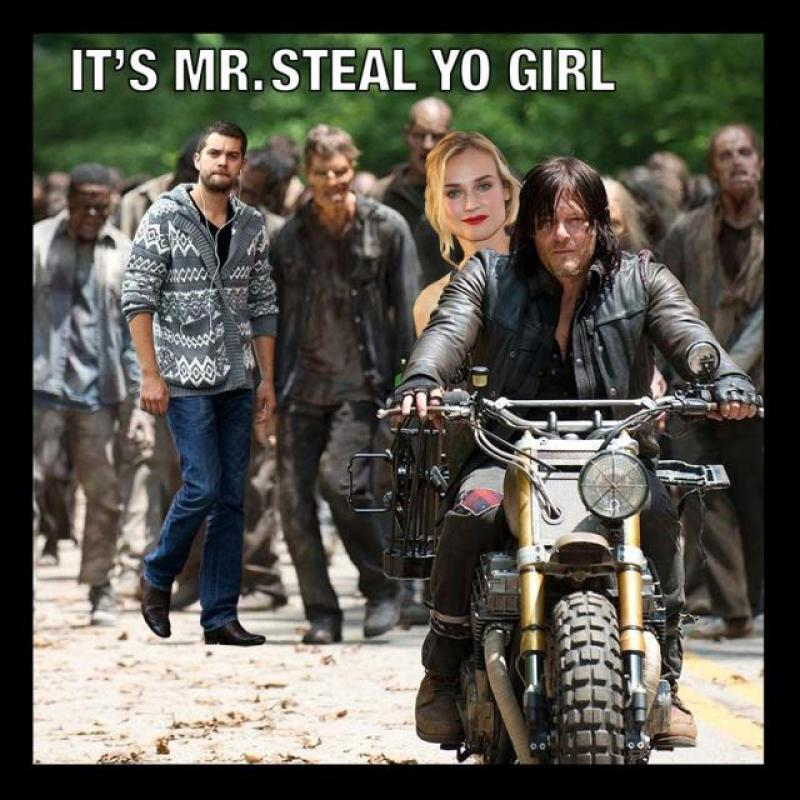nohelmet: (514, 154, 618, 297)
